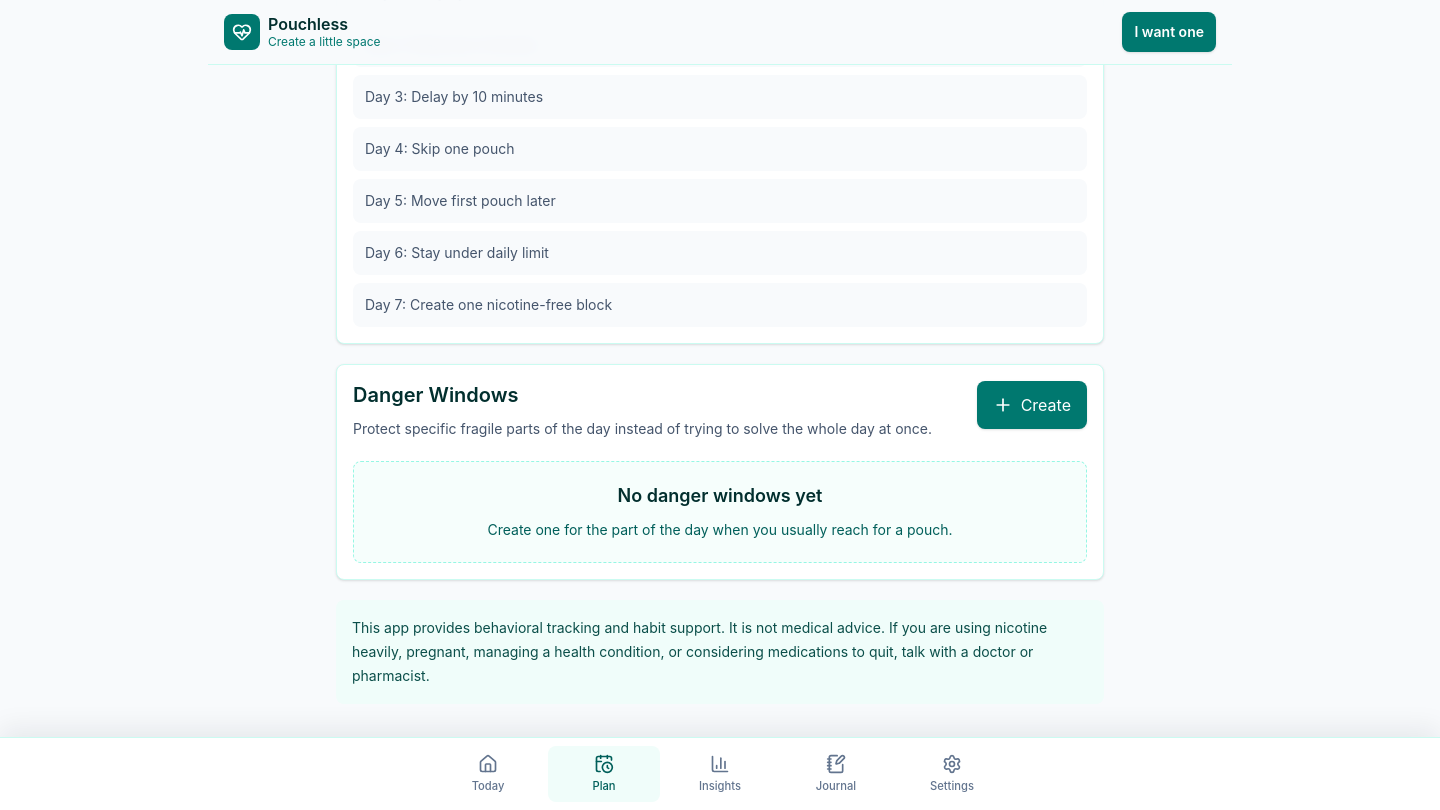
Scenario: Pouchless app flows › creates a danger window from the plan screen
(page scrolled)
Expected: the heading "Danger Windows" is shown, left=353, top=383, right=518, bottom=407
Click the button "Create" at point(1032, 405), box left=977, top=381, right=1087, bottom=429
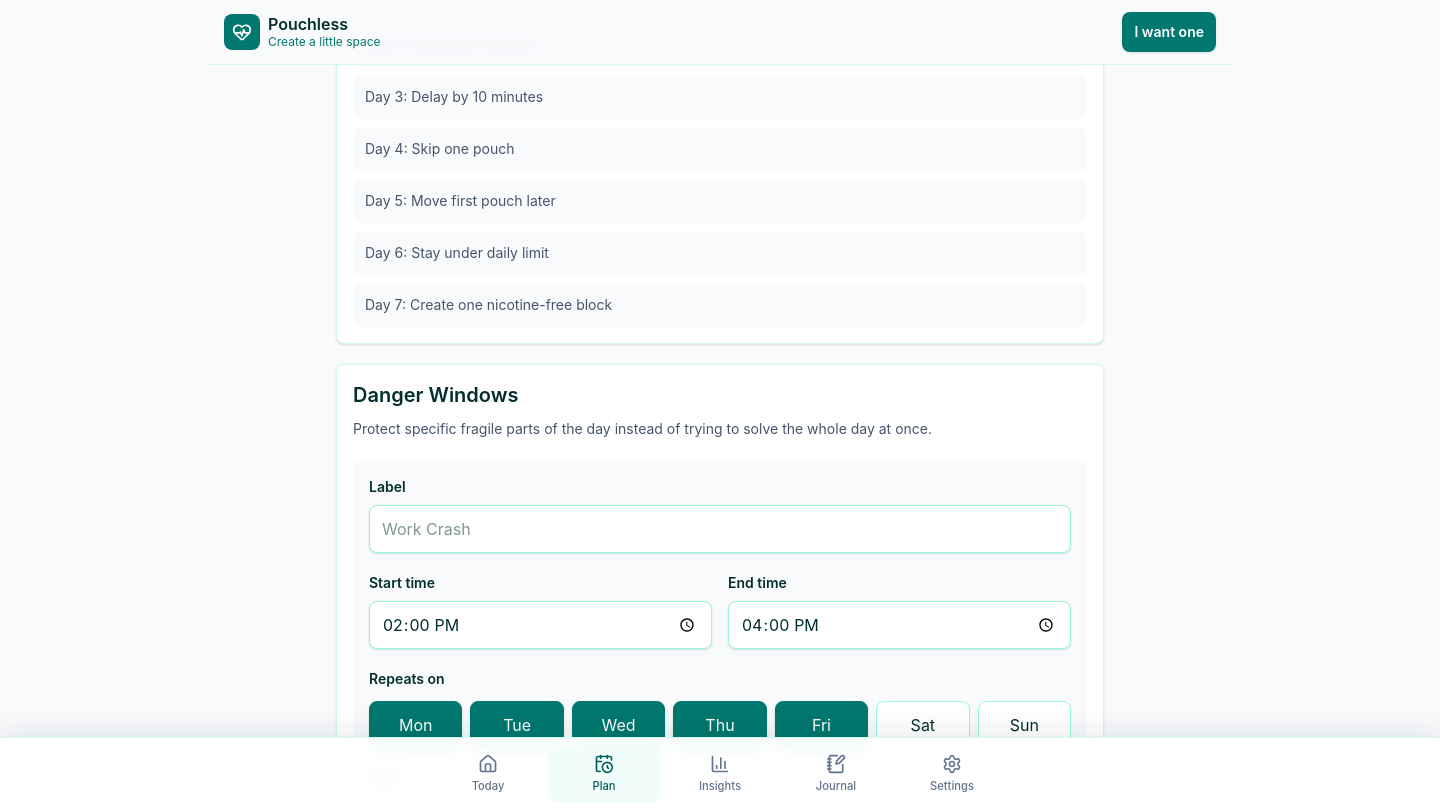
Type "Afternoon Crash" into the field labelled "Label" at point(720, 529), box left=369, top=505, right=1071, bottom=553
(page scrolled)
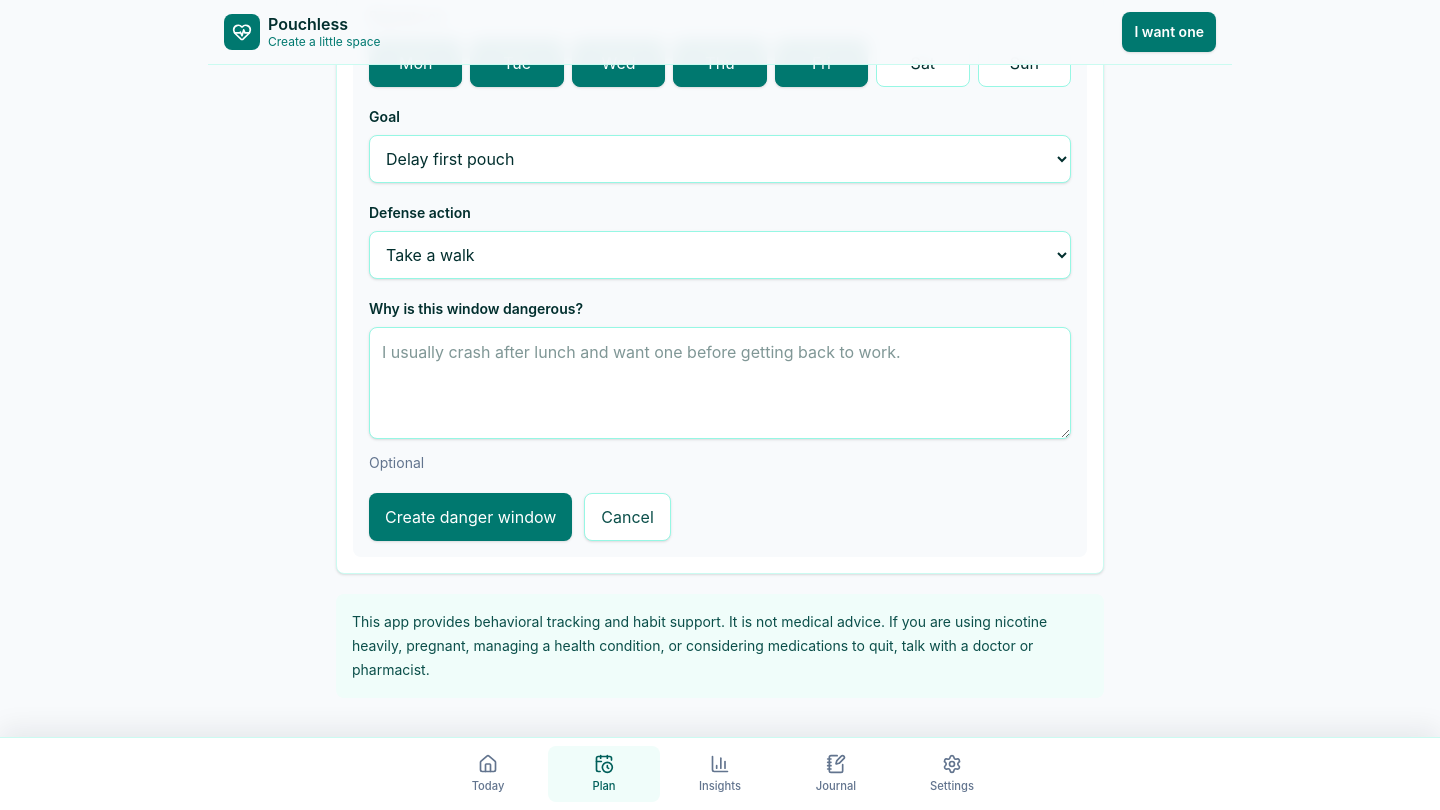
Click the button "Create danger window" at point(471, 517), box left=369, top=493, right=572, bottom=541
(page scrolled)
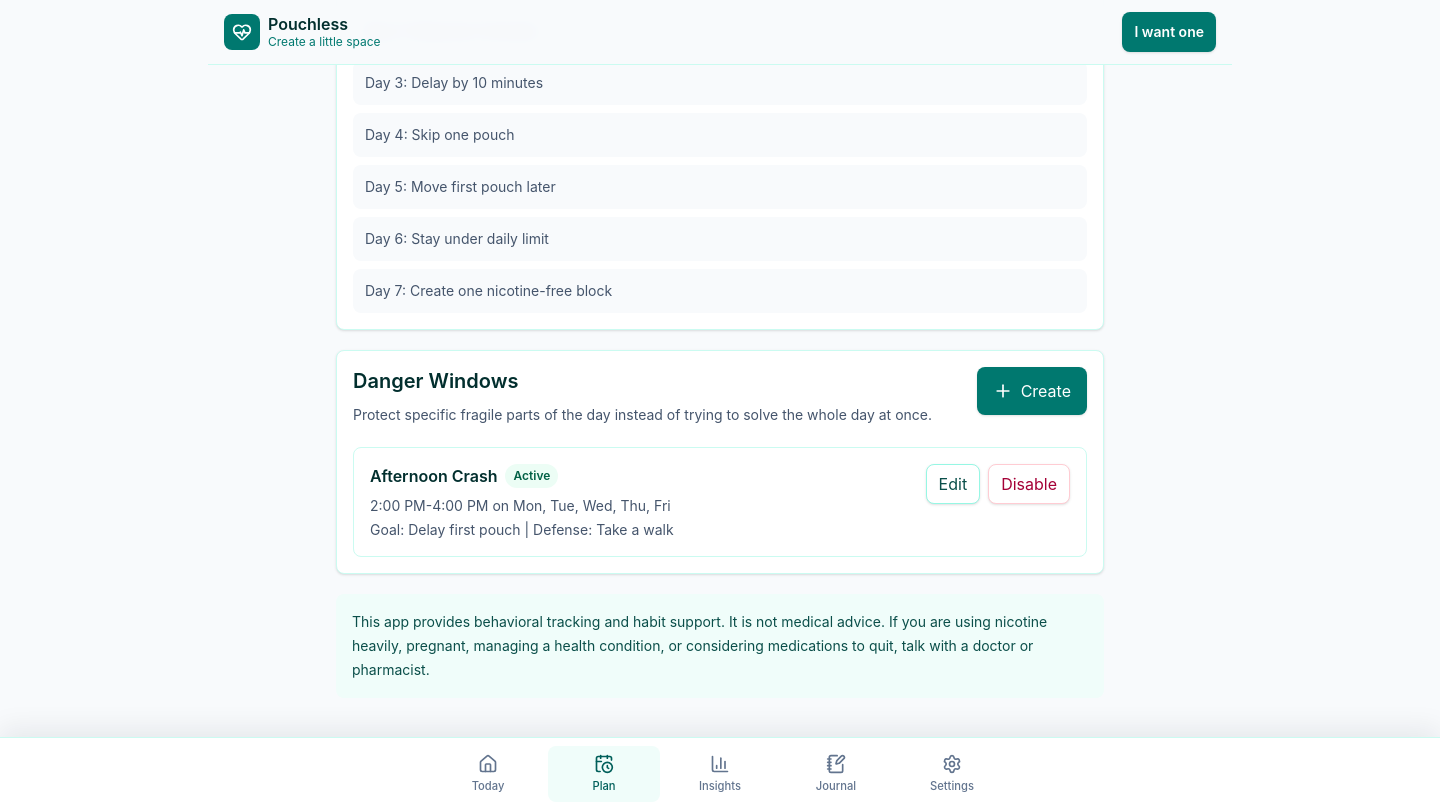
Now the heading "Afternoon Crash" is shown, box left=370, top=464, right=498, bottom=488
